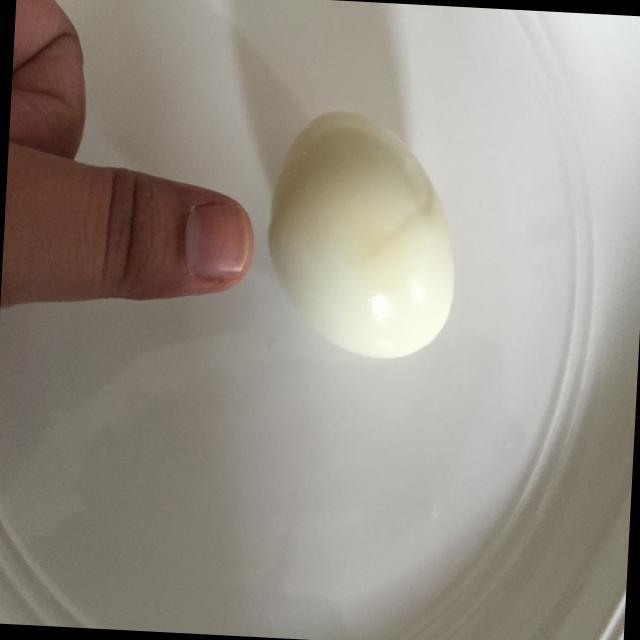Egg: (254, 102, 472, 372)
Finger: (82, 154, 264, 322)
